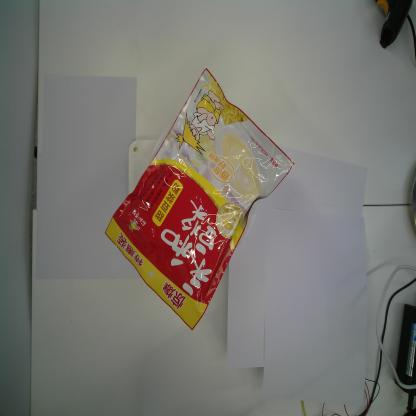Instant Drink: (104, 67, 296, 331)
